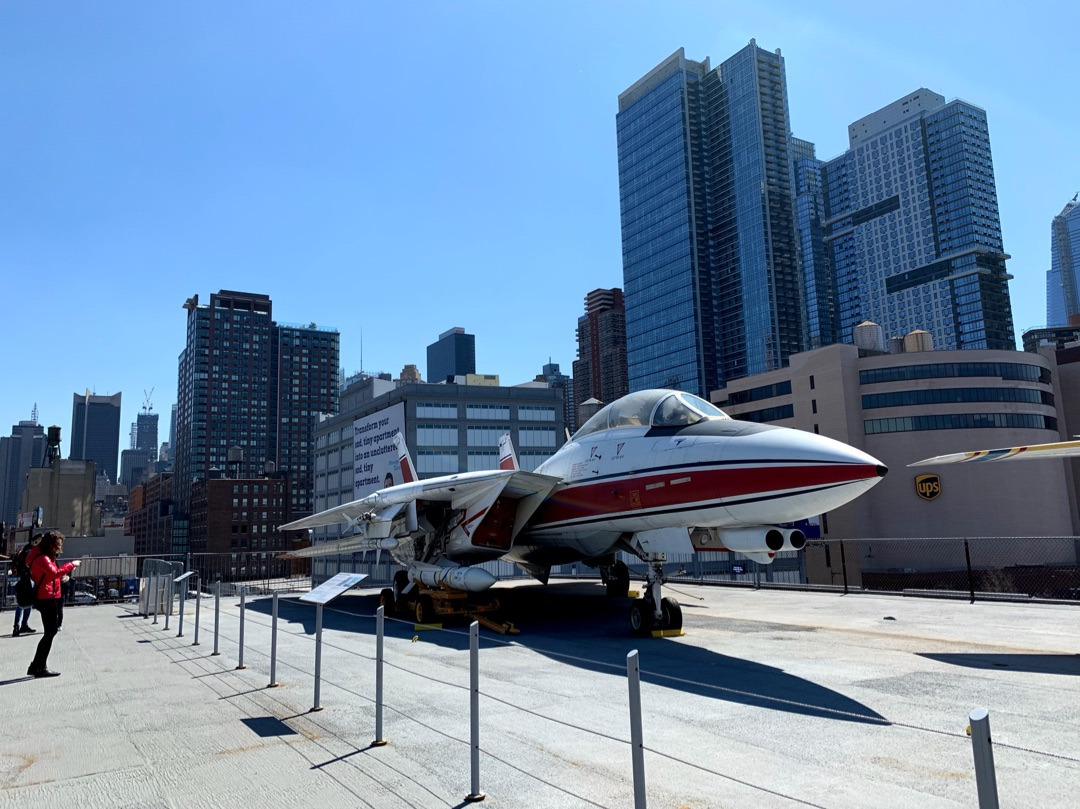F14: (275, 388, 889, 636)
